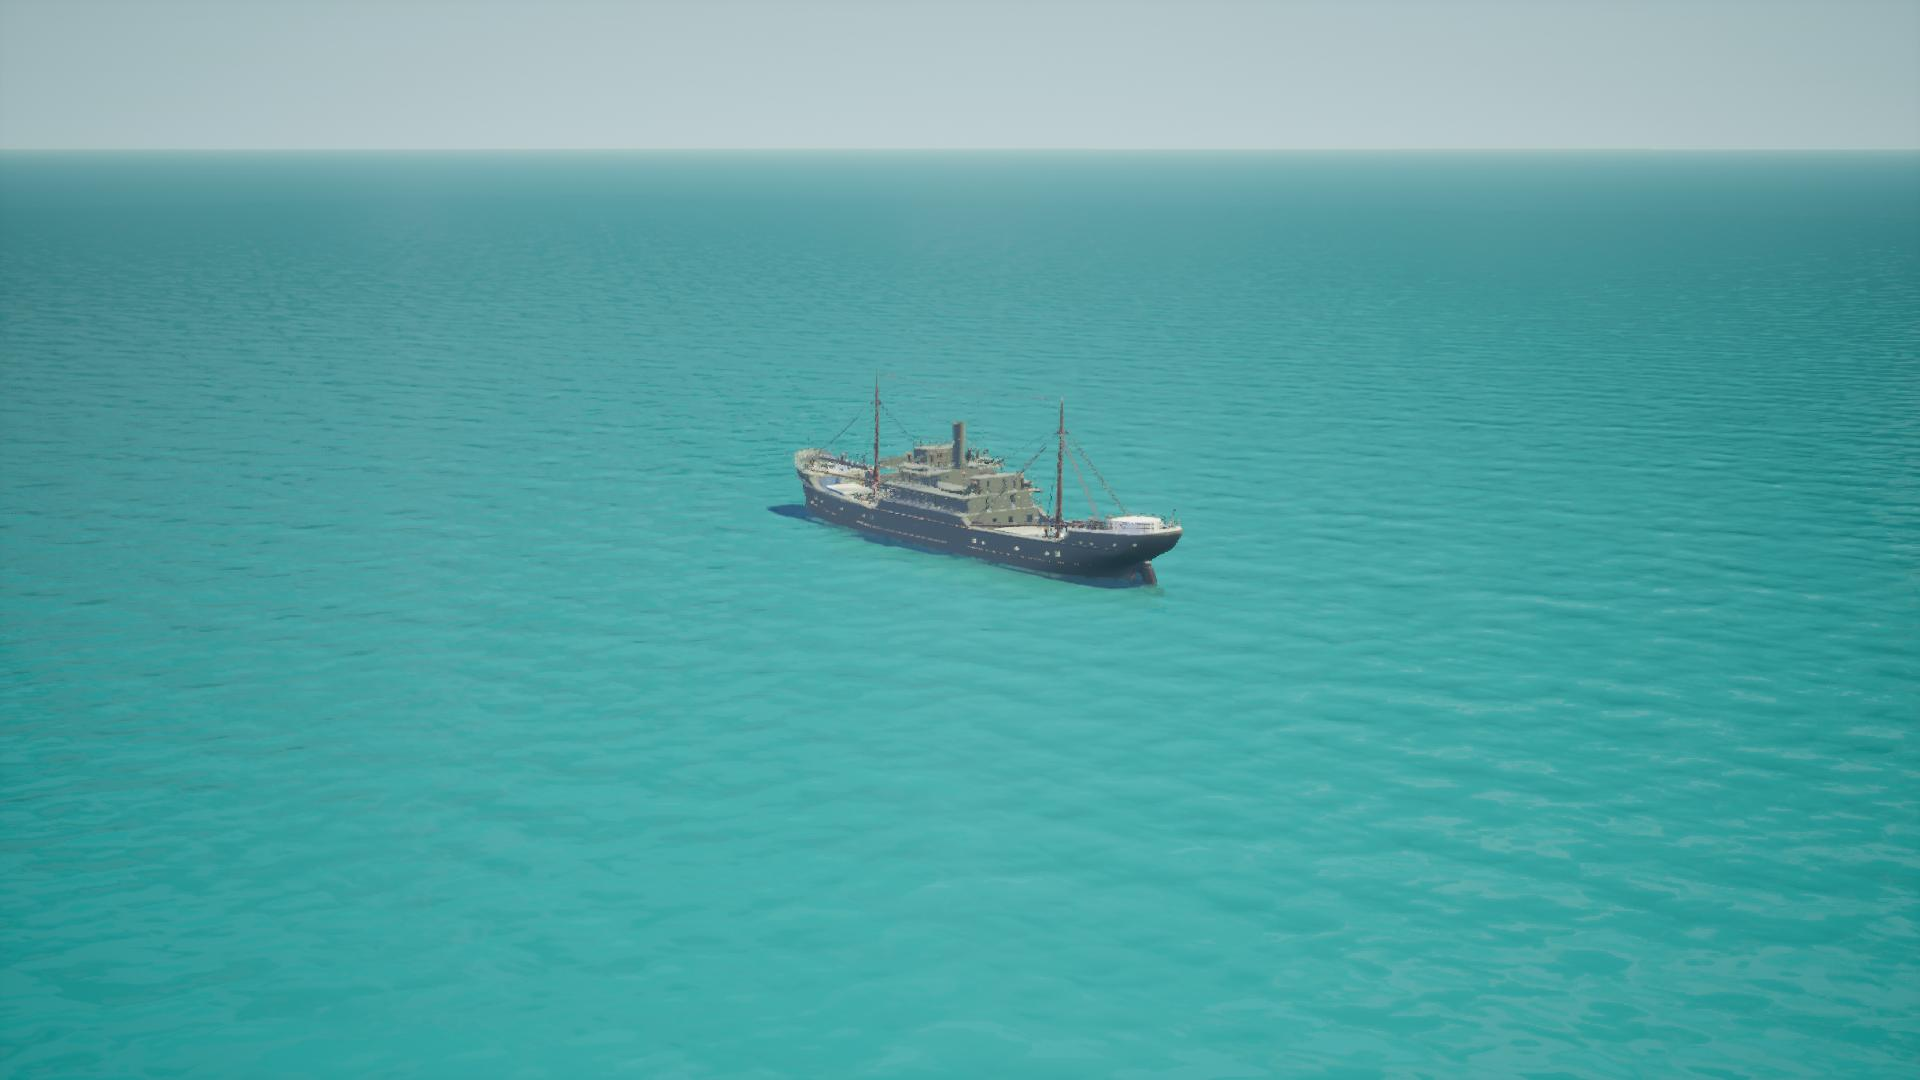Fishing Boat: (781, 382, 1185, 589)
